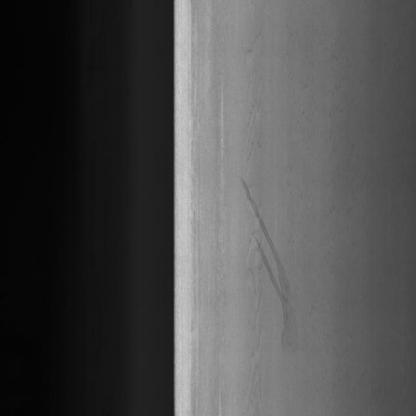water_spot: (235, 162, 311, 366)
